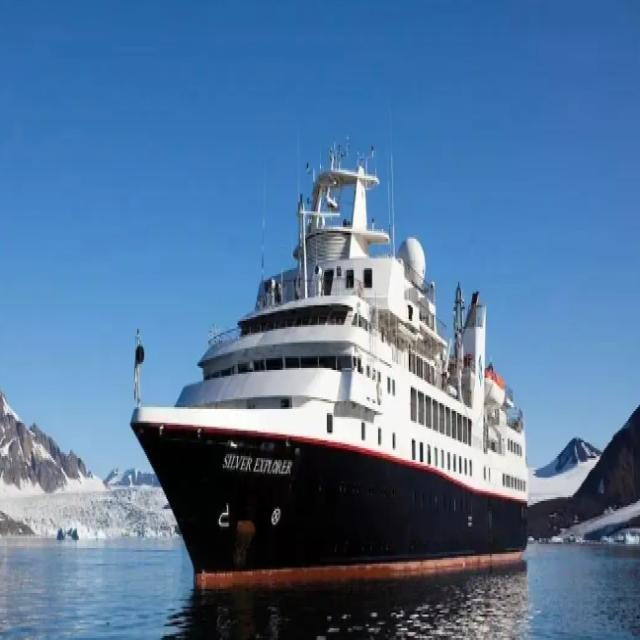passenger ship: (126, 144, 533, 580)
